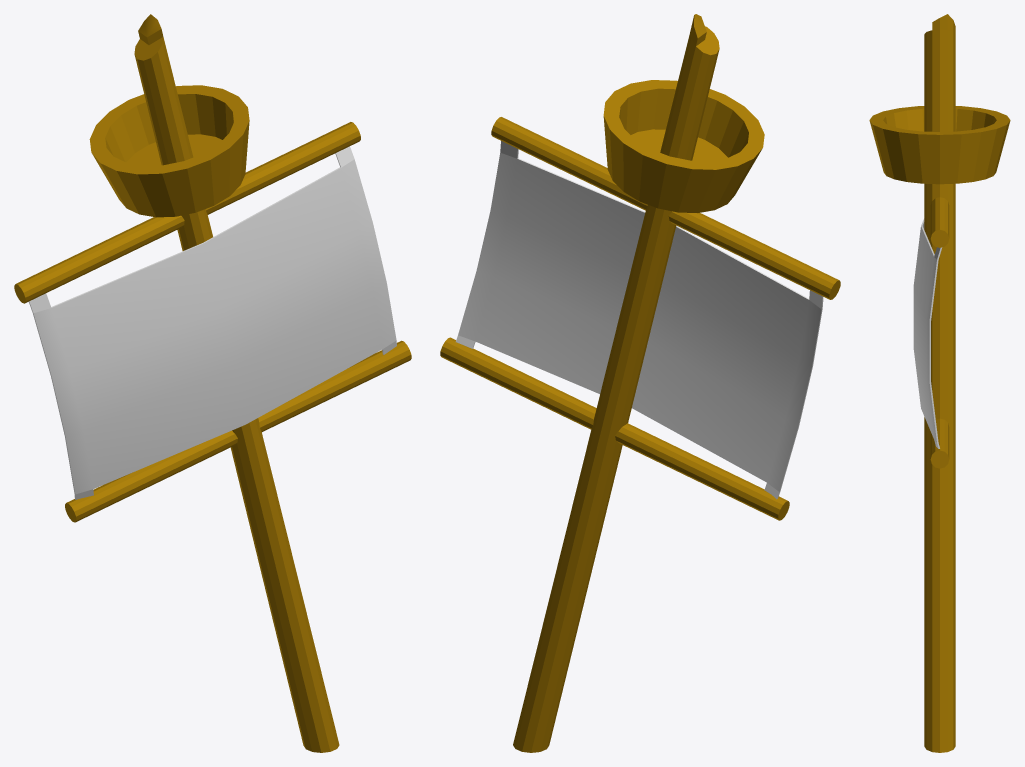
Rendered from mast.fbx.
The picture shows the model from 3 angles, left to right: view 1: azimuth 30°, elevation 25°; view 2: azimuth 150°, elevation 25°; view 3: azimuth 270°, elevation 25°; orthographic projection. The views are drawn at different scales.
Visible parts, largest first — view 1: pCylinder4; view 2: pCylinder4; view 3: pCylinder4.
Boxes of the visible parts, x1=… form: pCylinder4: x1=14, y1=14, x2=411, y2=752; pCylinder4: x1=440, y1=14, x2=840, y2=752; pCylinder4: x1=869, y1=14, x2=1010, y2=752.
Size of the model in its own units: 24.95 by 46.97 by 9.06.
